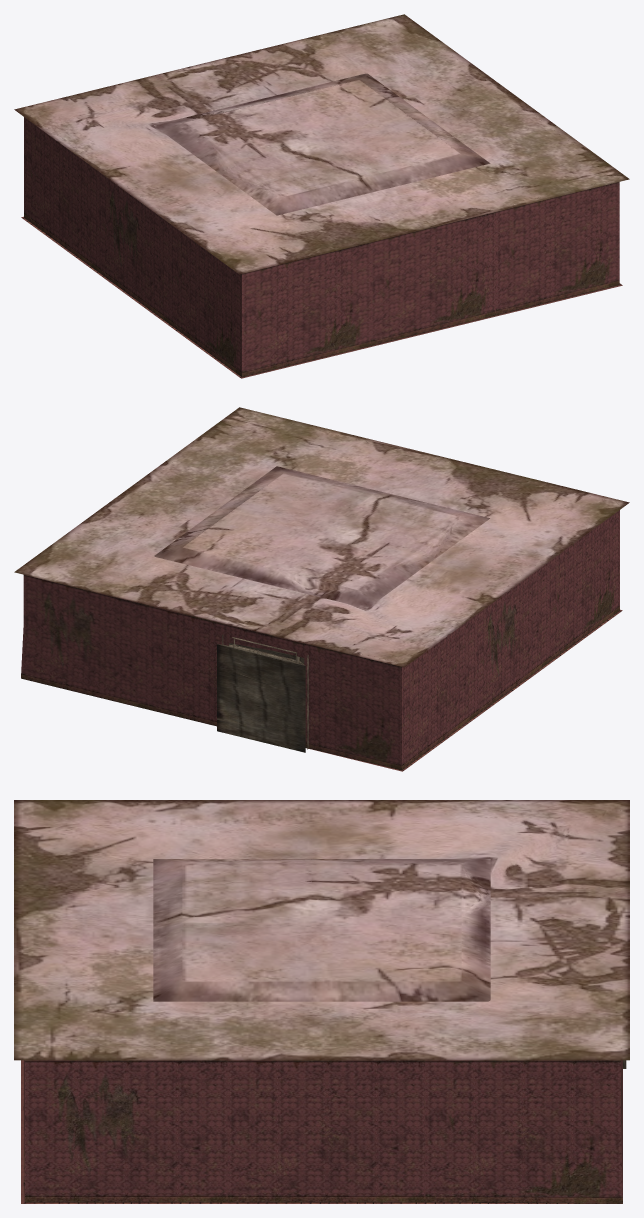
The model's file is interior_vip_room.fbx.
3 renders of one model, top to bottom at view 1: azimuth 30°, elevation 25°; view 2: azimuth 150°, elevation 25°; view 3: azimuth 270°, elevation 25°, orthographic. The views are drawn at different scales.
Visible parts, largest first — view 1: ceiling, wall2, wall1, ceiling_center, ceiling_mid, floor.001; view 2: ceiling, wall4, wall1, ceiling_center, ceiling_mid, door_frame_top, floor.001; view 3: ceiling, wall3, ceiling_center, ceiling_mid, floor.001.
Boxes of the visible parts, bbox=[...] form: ceiling: bbox=[14, 14, 629, 274]; wall2: bbox=[242, 182, 619, 377]; wall1: bbox=[24, 117, 241, 376]; ceiling_center: bbox=[183, 80, 461, 197]; ceiling_mid: bbox=[154, 73, 490, 215]; floor.001: bbox=[21, 216, 622, 378]; ceiling: bbox=[14, 407, 629, 667]; wall4: bbox=[21, 575, 401, 770]; wall1: bbox=[402, 510, 619, 769]; ceiling_center: bbox=[182, 472, 460, 590]; ceiling_mid: bbox=[154, 466, 489, 608]; door_frame_top: bbox=[217, 637, 305, 752]; floor.001: bbox=[306, 609, 622, 771]; ceiling: bbox=[14, 800, 629, 1060]; wall3: bbox=[25, 1060, 622, 1203]; ceiling_center: bbox=[182, 863, 461, 981]; ceiling_mid: bbox=[153, 859, 490, 1001]; floor.001: bbox=[21, 1060, 622, 1203].
Size of the model in its own units: 4962 by 1411 by 4962.
1 material, 1 textured.
